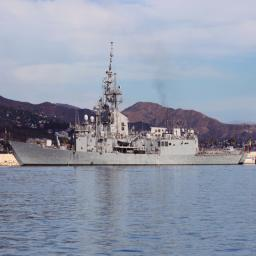Fragata: (6, 40, 252, 169)
